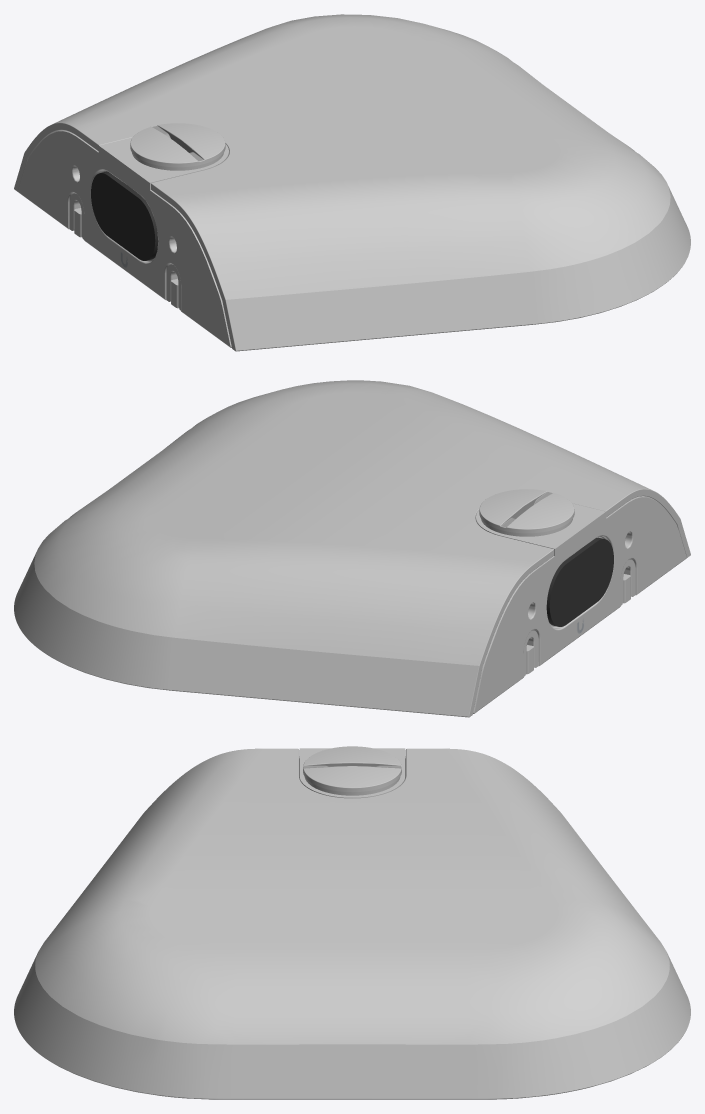
Rendered from uacc-ai-ms-2-am.glb.
The picture shows the model from 3 angles, top to bottom: view 1: azimuth 30°, elevation 25°; view 2: azimuth 150°, elevation 25°; view 3: azimuth 270°, elevation 25°; orthographic projection. The views are drawn at different scales.
Visible parts, largest first — view 1: Top_Shell, Bottom_Shell, Rear_Seal, Rounded_Plug; view 2: Top_Shell, Bottom_Shell, Rear_Seal, Rounded_Plug; view 3: Top_Shell, Rounded_Plug, Bottom_Shell.
Boxes of the visible parts, <box> form: Top_Shell: <box>14,14,690,351</box>; Bottom_Shell: <box>18,130,231,347</box>; Rear_Seal: <box>91,171,158,260</box>; Rounded_Plug: <box>130,123,225,170</box>; Top_Shell: <box>14,380,690,717</box>; Bottom_Shell: <box>473,496,686,713</box>; Rear_Seal: <box>546,537,613,626</box>; Rounded_Plug: <box>479,489,574,536</box>; Top_Shell: <box>14,748,690,1099</box>; Rounded_Plug: <box>303,746,401,795</box>; Bottom_Shell: <box>299,748,405,798</box>.
Size of the model in its own units: 0.1848 by 0.0471 by 0.2186.
Materials: 9 (2 with a texture image).
